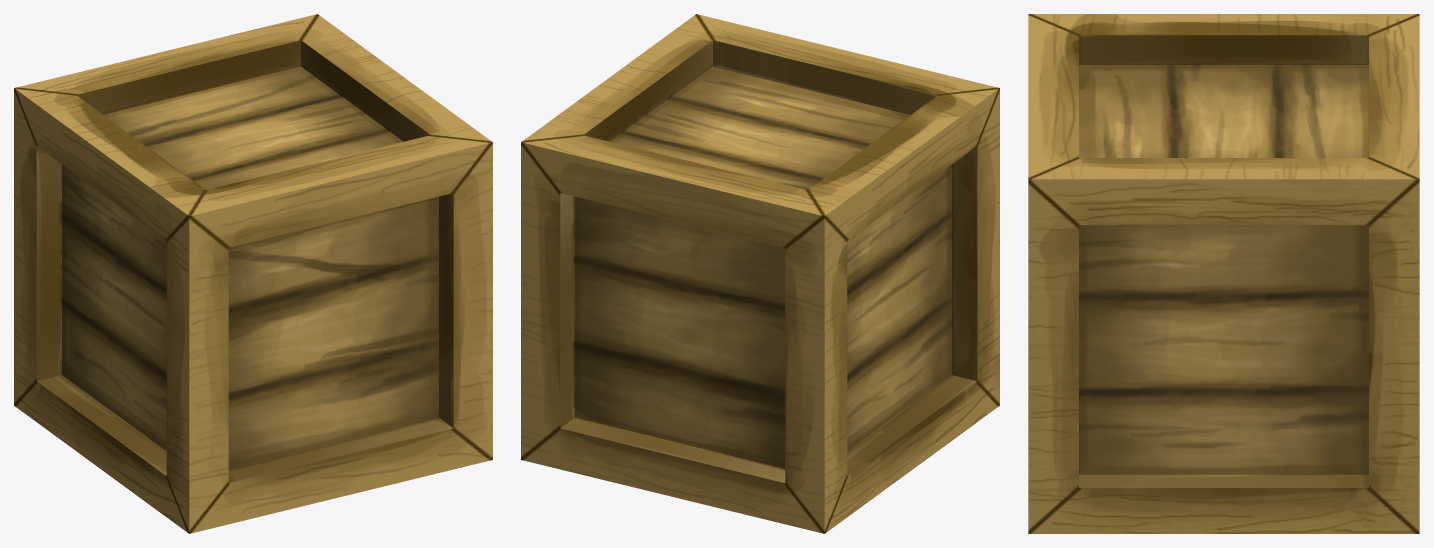
3 renders of one model, left to right at view 1: azimuth 30°, elevation 25°; view 2: azimuth 150°, elevation 25°; view 3: azimuth 270°, elevation 25°, orthographic. The views are drawn at different scales.
Visible parts, largest first — view 1: handcrate; view 2: handcrate; view 3: handcrate.
Part boxes in pixels (bbox=[...]): handcrate: bbox=[14, 14, 492, 533]; handcrate: bbox=[521, 14, 999, 533]; handcrate: bbox=[1028, 14, 1419, 533].
Bounding box in the file's own units: 8.42 × 8.42 × 8.42.
1 material, 1 textured.
